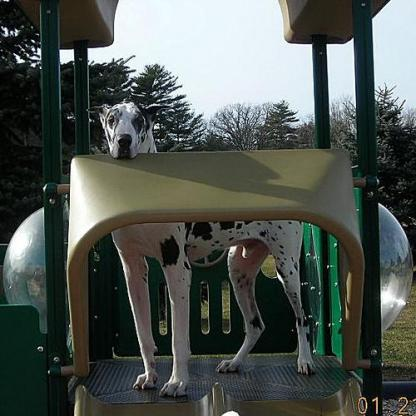Great_Dane: (97, 101, 313, 395)
